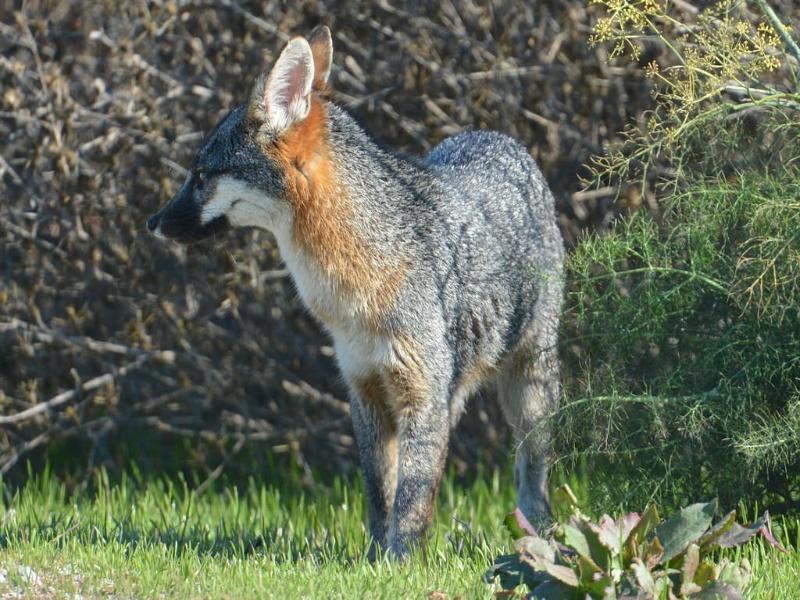fox: (150, 29, 568, 551)
